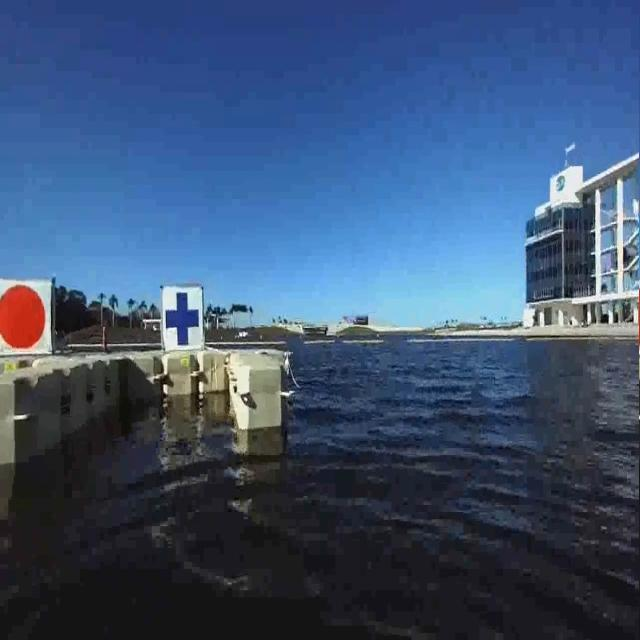blue-cross: (157, 281, 206, 361)
red-dot: (2, 278, 50, 361)
